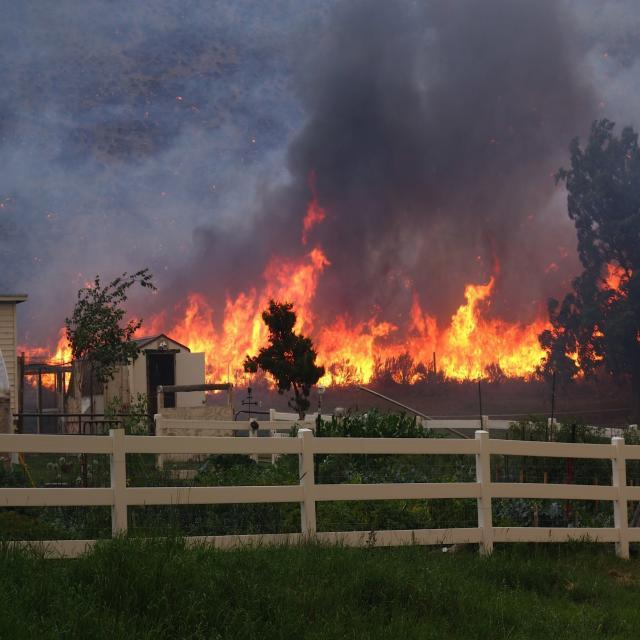Fire: (20, 236, 640, 388)
Smoke: (162, 0, 640, 316)
